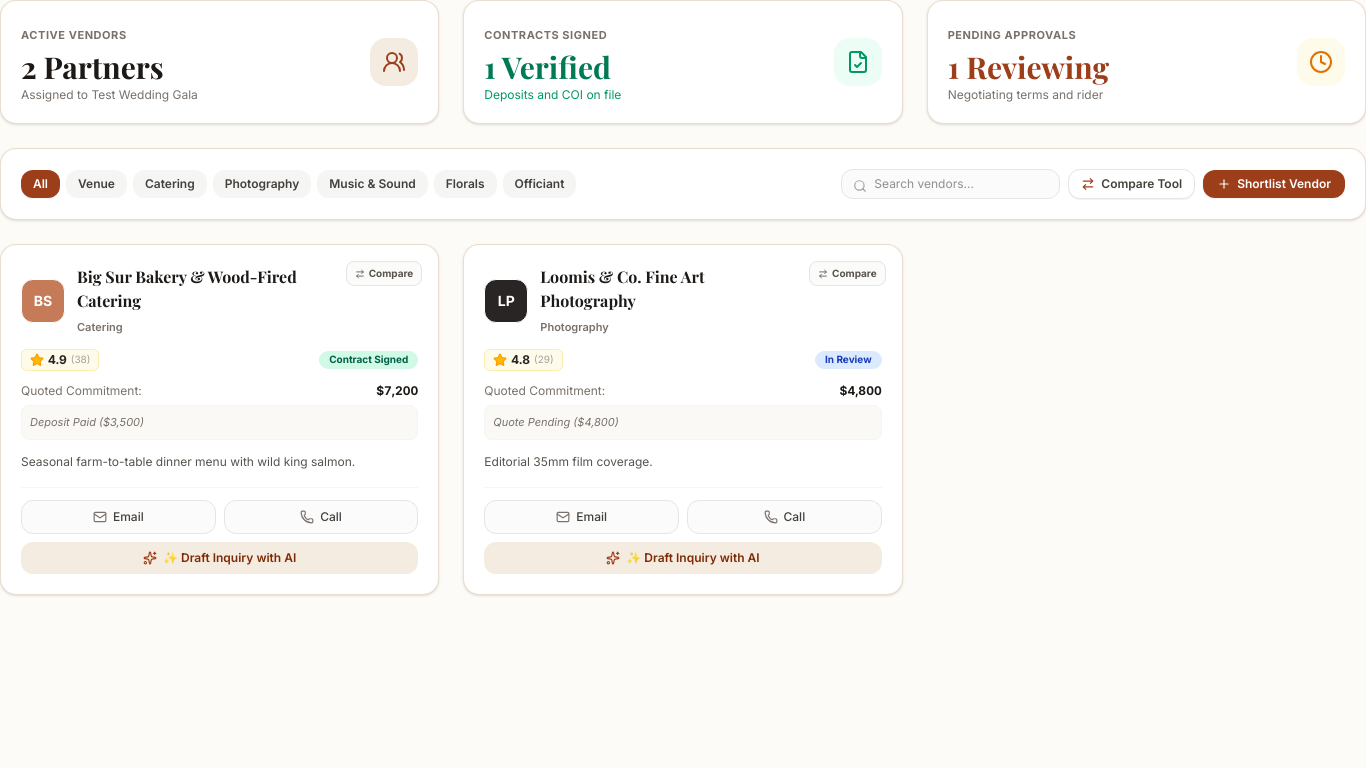
VendorsTab Component › filters vendors by category selection
Click the button "Catering".
click(170, 184)  # box [133,170,207,198]
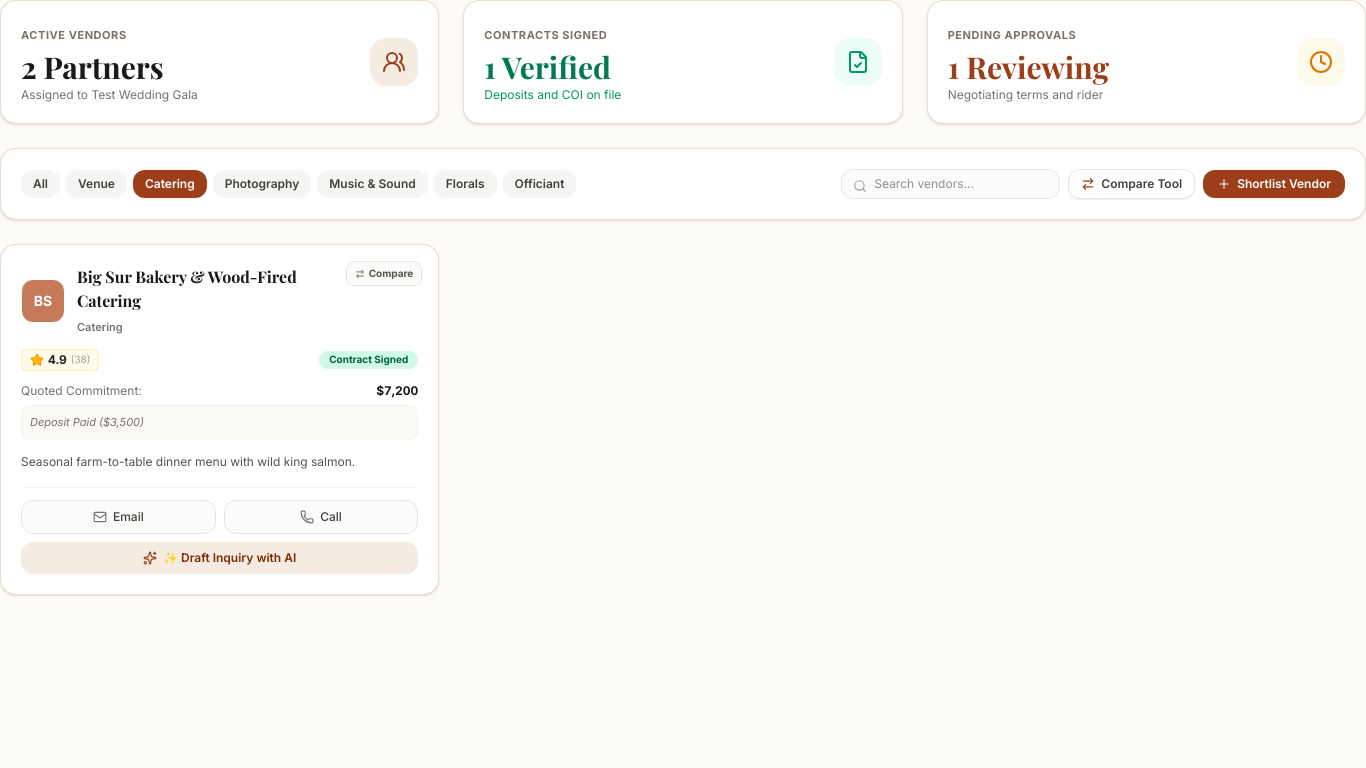
Check: the heading "Big Sur Bakery & Wood-Fired Catering" is shown, box [77,266,297,311]
Check: the heading "Loomis & Co. Fine Art Photography" is gone
